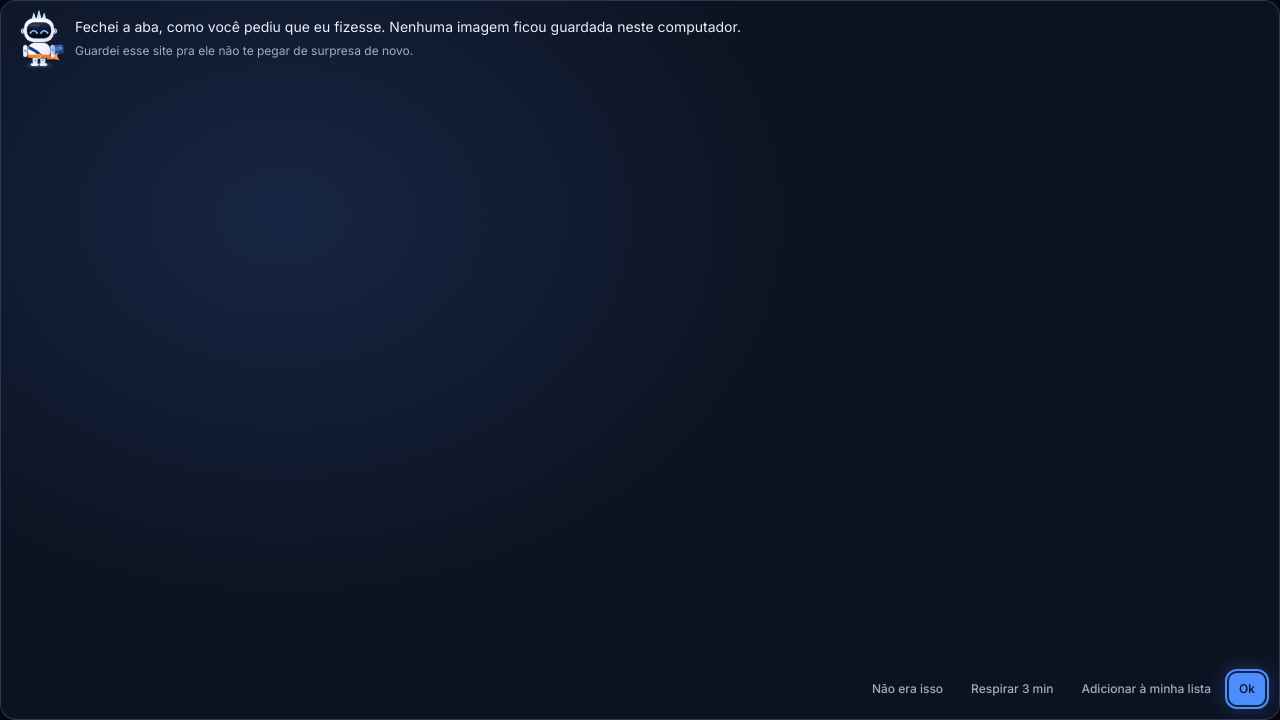
Test: the card window › "Não era isso" tells the engine and says it was noted
Expected: the message with test id "card-message" is shown, [75,18,741,35]
Step 1. Click the button "Não era isso" → [908, 689], box [862,673,953,705]
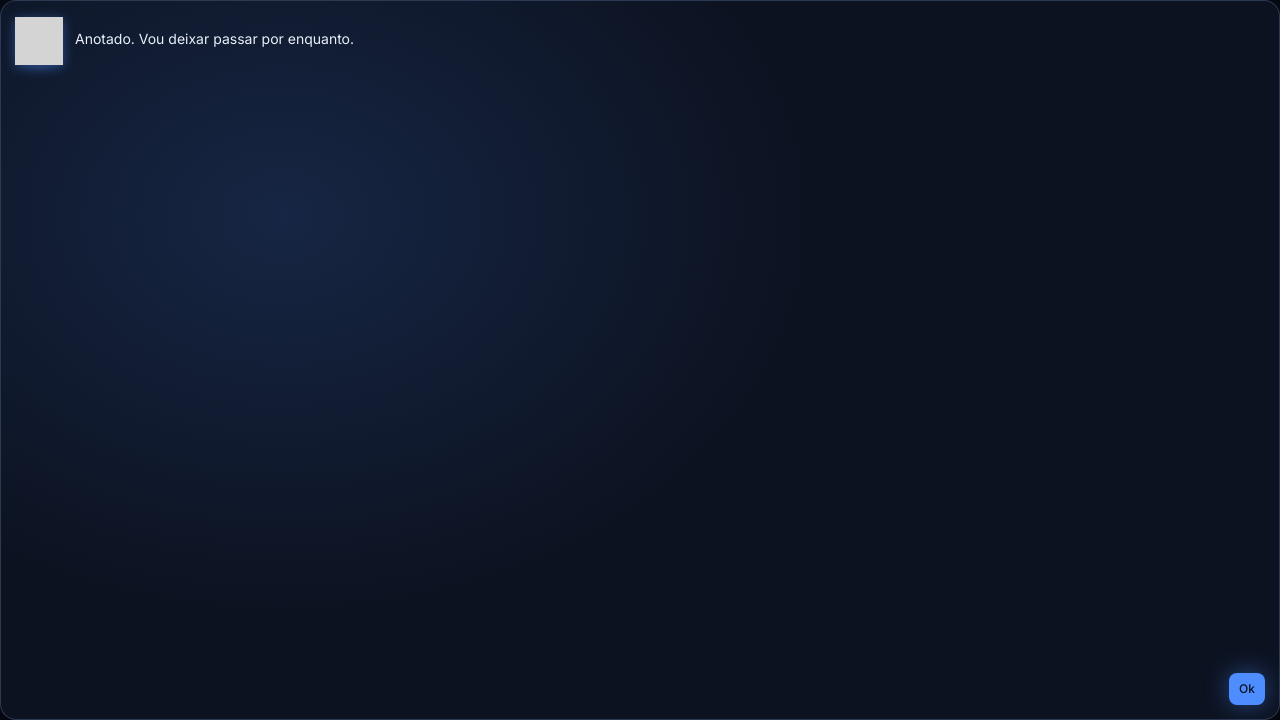
Result: the message with test id "card-message" reads "Anotado. Vou deixar passar por enquanto." at [75,30,354,47]
